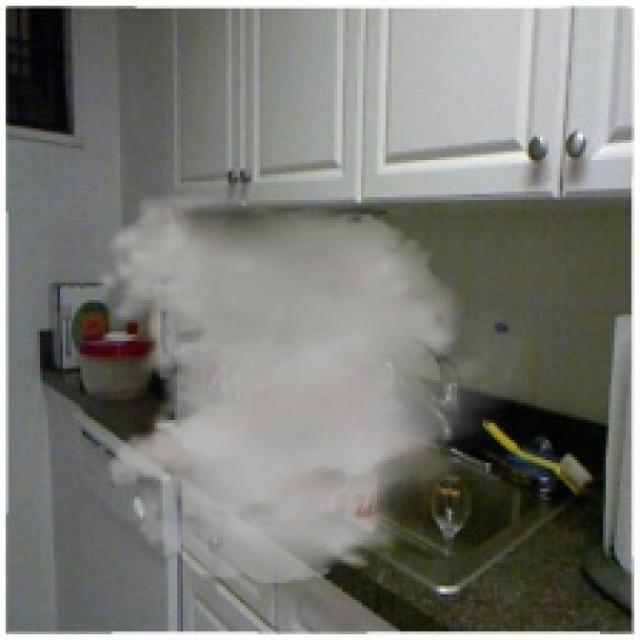smoke: (94, 191, 517, 583)
